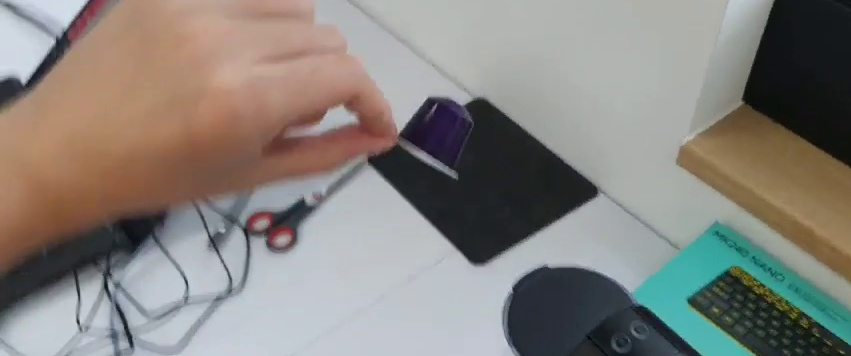capsule_11: (393, 92, 476, 180)
